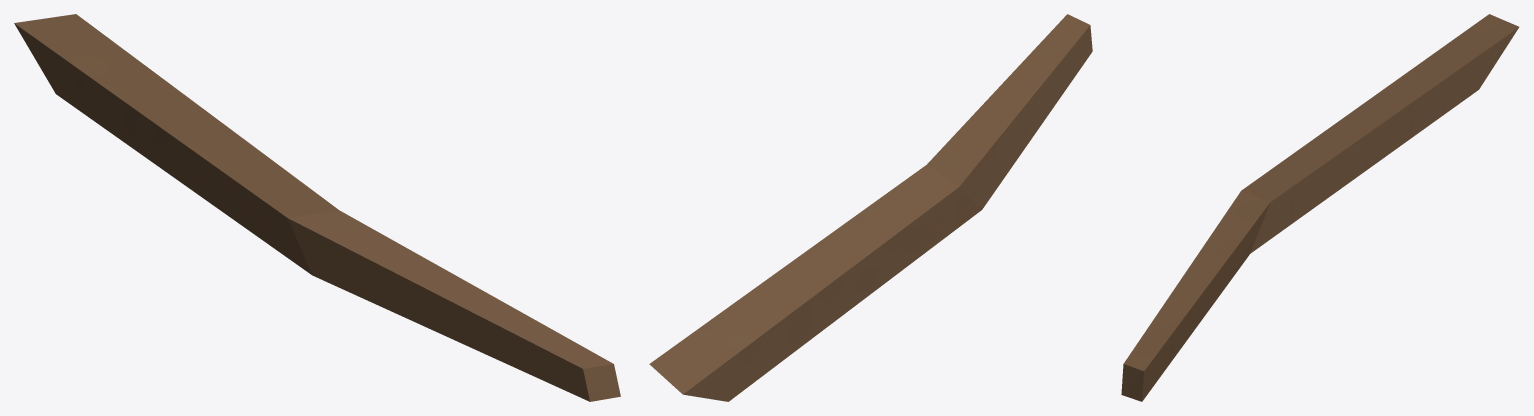
File: Branch2.FBX
3 views of the same model, side by side, from view 1: azimuth 30°, elevation 25°; view 2: azimuth 150°, elevation 25°; view 3: azimuth 330°, elevation 25° (orthographic). The views are drawn at different scales.
Visible parts, largest first — view 1: Branch2; view 2: Branch2; view 3: Branch2.
Boxes of the visible parts, x1,y1,x2,y2 form: Branch2: (14, 14, 620, 401); Branch2: (649, 14, 1092, 401); Branch2: (1121, 14, 1519, 401).
Size of the model in its own units: 15.55 by 6.58 by 117.
